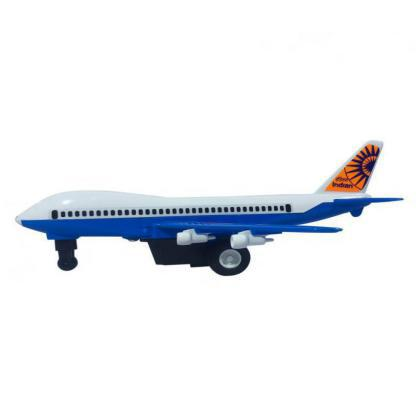CIV_Plane: (19, 132, 406, 272)
